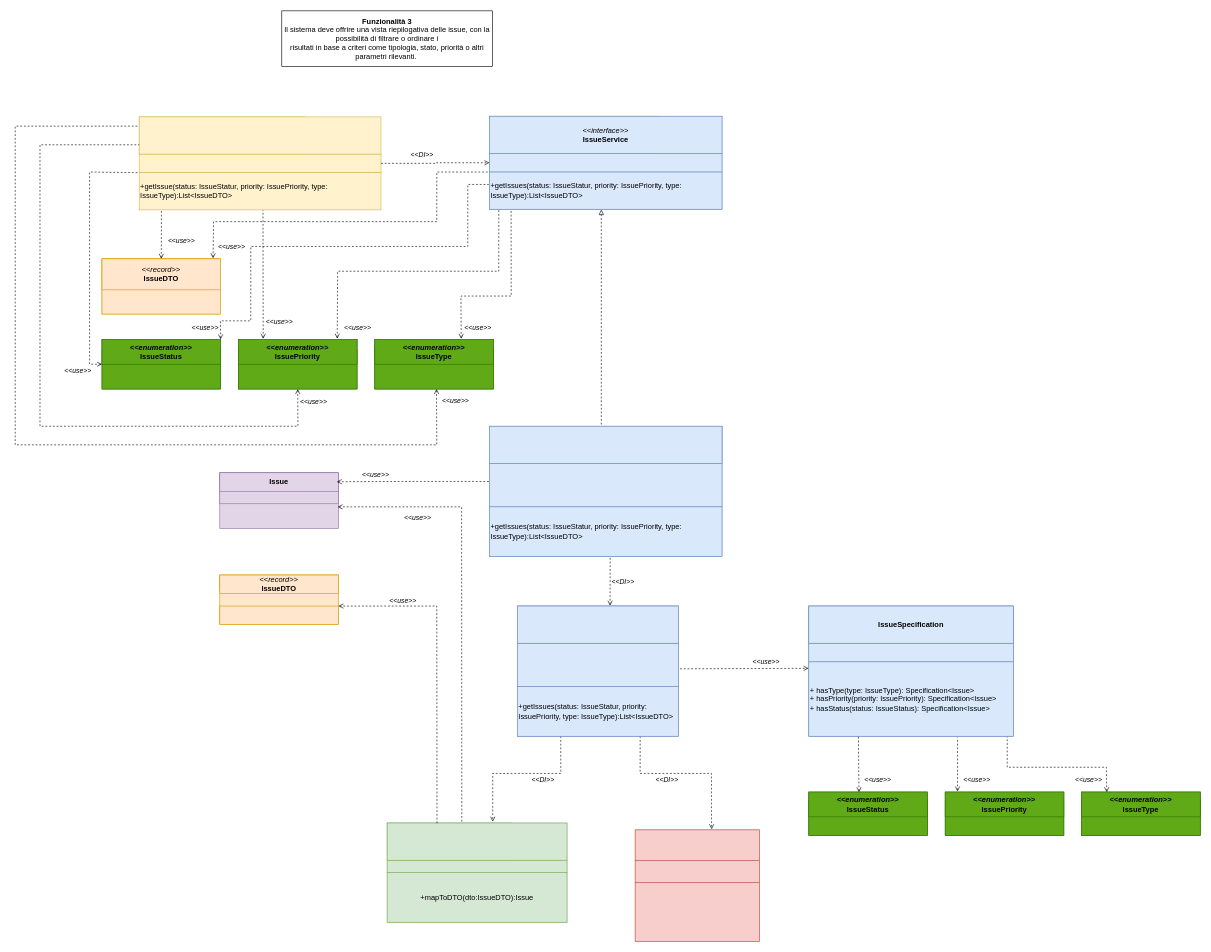
The diagram is 1211 pixels wide and 952 high, and some of its shapes have lost their labels. Here are the shapes that lost their labels. From the top down, the box of each, then its label:
(139, 116, 381, 154): IssueController
(139, 153, 381, 173): -issueService:IssueService
(489, 426, 722, 463): IssueServiceImpl
(489, 463, 722, 507): - issueReadService: IssueReadService
(517, 605, 679, 643): IssueReadService
(517, 643, 679, 687): - issueRepository: IssueRepository - issueMapper: IssueMapper
(387, 822, 567, 860): IssueMapper
(635, 829, 760, 860): <<interface>> IssueRepository
